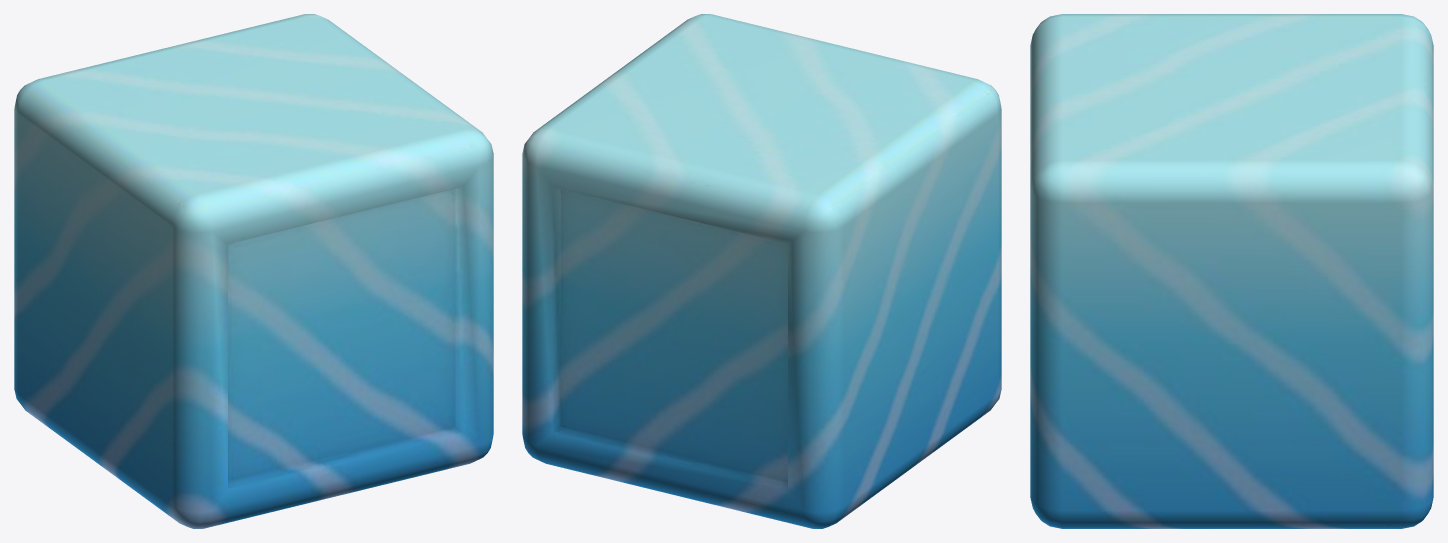
Rendered from buz1.glb.
3 views of the same model, side by side, from view 1: azimuth 30°, elevation 25°; view 2: azimuth 150°, elevation 25°; view 3: azimuth 270°, elevation 25° (orthographic). The views are drawn at different scales.
Visible parts, largest first — view 1: blok; view 2: blok; view 3: blok.
Part boxes in pixels (x1=…): blok: x1=14, y1=14, x2=493, y2=528; blok: x1=522, y1=14, x2=1001, y2=528; blok: x1=1030, y1=14, x2=1433, y2=528.
Size of the model in its own units: 1 by 1 by 1.
1 material, 1 textured.
